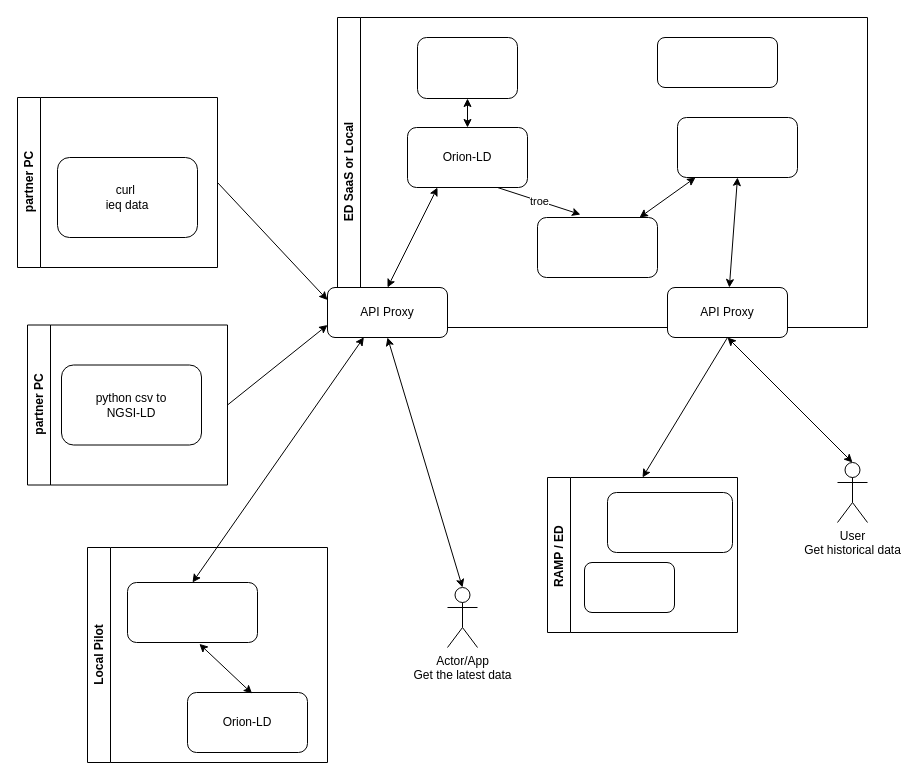
The diagram is 918 pixels wide and 780 high, and some of its shapes have lost their labels. The centre of each missing label's shape, as x and y in pixels:
"Apache Superset" belongs at (629,587).
"circuloos-registration-to-entities" belongs at (192,612).
"Keycloak" belongs at (717,62).
"Mintaka" belongs at (737,147).
"mongo-db (store configuration)" belongs at (467,67).
"RAMP MARKETPLACE" belongs at (669,522).
"timescale-db (data storage)" belongs at (597,247).
